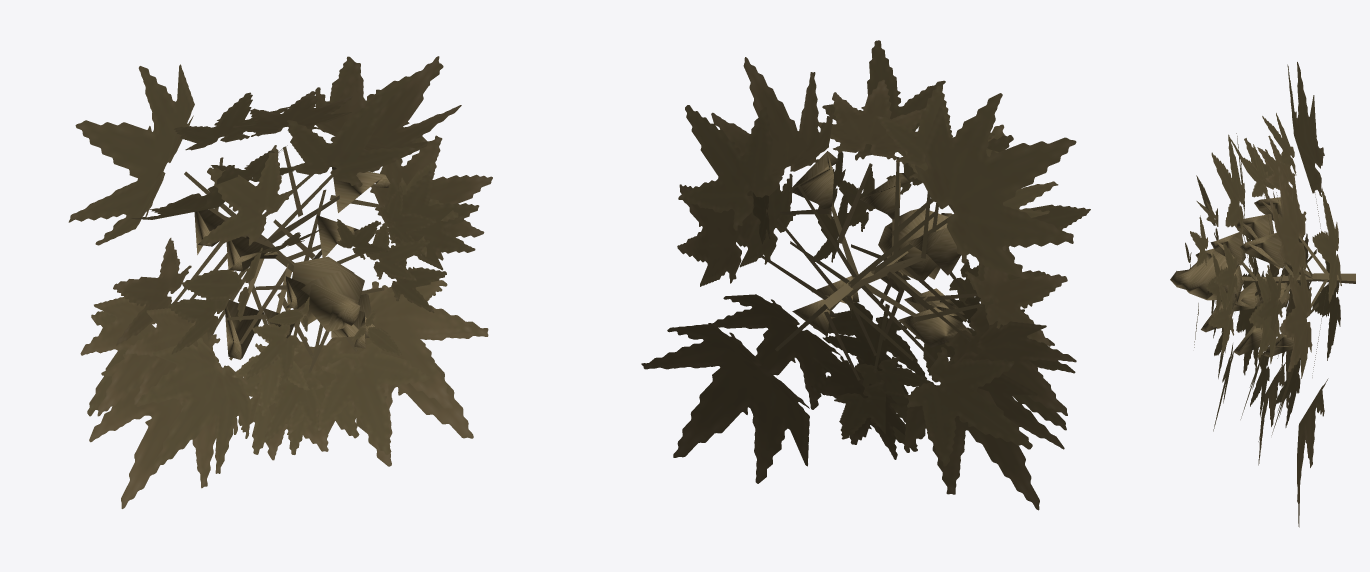
Rendered from p_hybrid_ripe_c4_cards.obj.
3 renders of one model, left to right at view 1: azimuth 30°, elevation 25°; view 2: azimuth 150°, elevation 25°; view 3: azimuth 270°, elevation 25°, orthographic. The views are drawn at different scales.
Size of the model in its own units: 1.29 by 1.25 by 0.492.
Materials: 1 (1 with a texture image).
